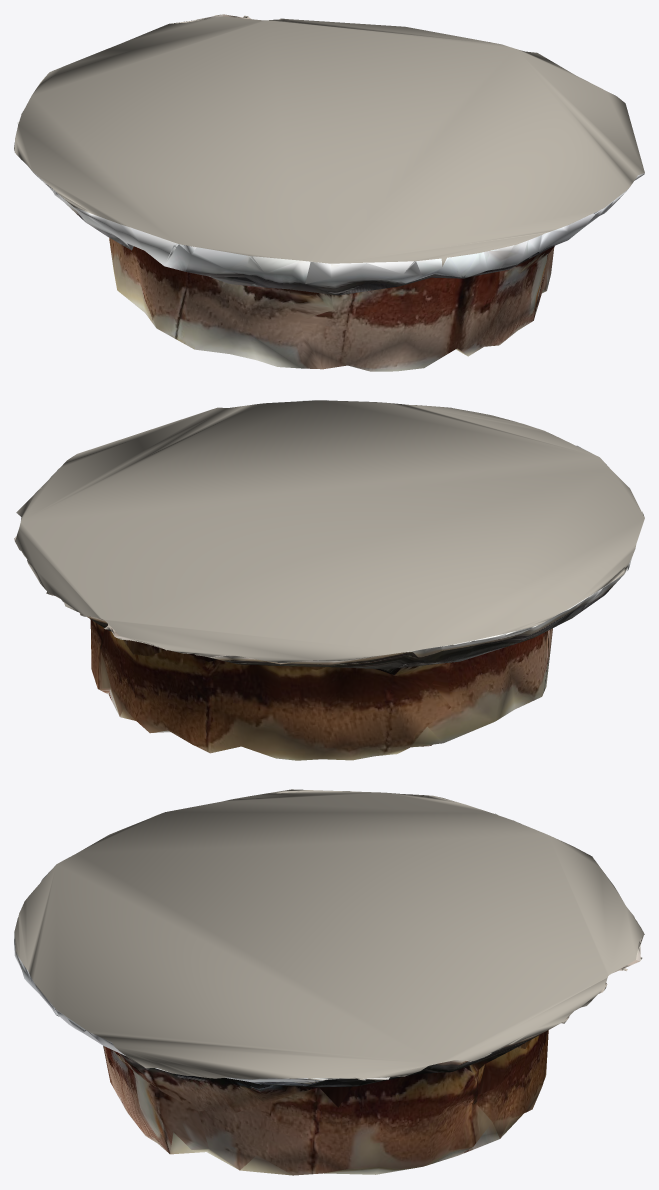
The model's file is cake_1078.obj.
3 renders of one model, top to bottom at view 1: azimuth 30°, elevation 25°; view 2: azimuth 150°, elevation 25°; view 3: azimuth 270°, elevation 25°, orthographic. The views are drawn at different scales.
Size of the model in its own units: 0.1769 by 0.0539 by 0.1767.
Materials: 1 (1 with a texture image).
